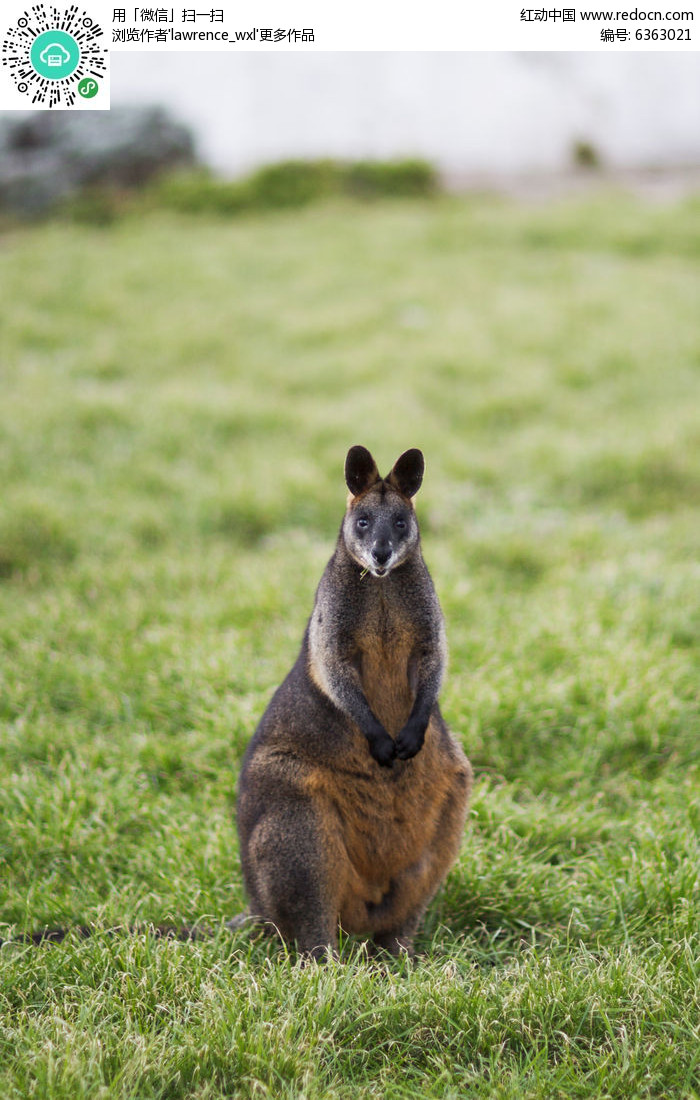kangaroo: (230, 447, 479, 967)
